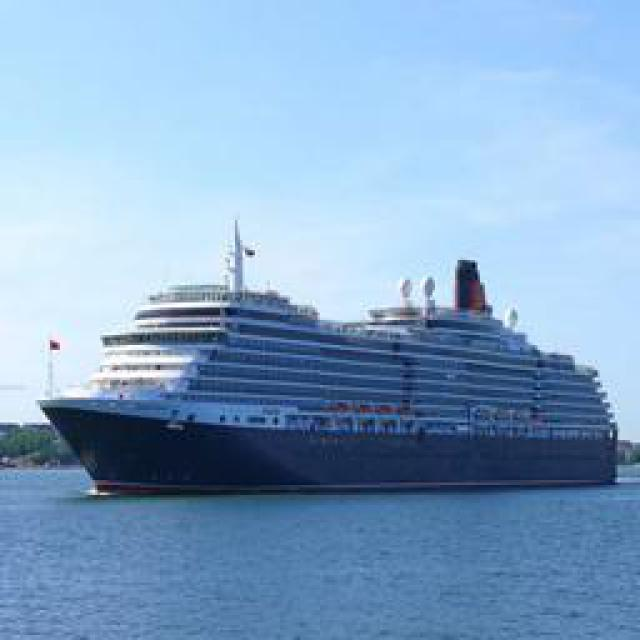Ship: (36, 223, 624, 491)
